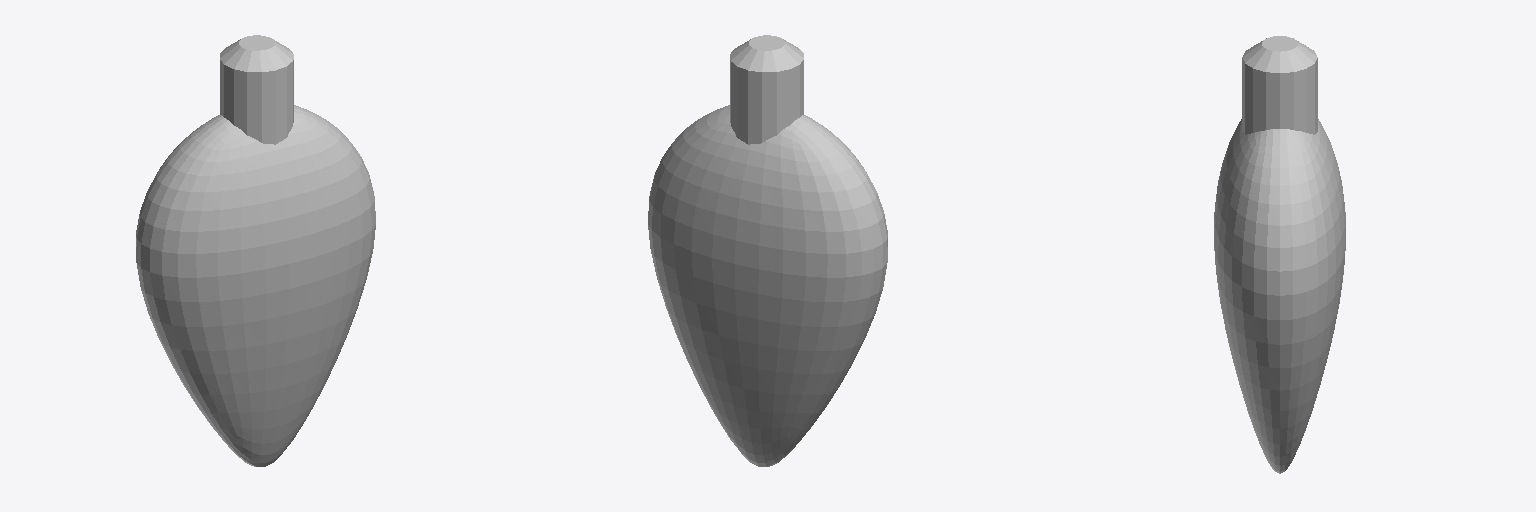
The model's file is Leaf1.obj.
3 renders of one model, left to right at view 1: azimuth 30°, elevation 25°; view 2: azimuth 150°, elevation 25°; view 3: azimuth 270°, elevation 25°, orthographic.
Visible parts, largest first — view 1: Cube; view 2: Cube; view 3: Cube.
Part boxes in pixels (left/top/right/bottom): Cube: left=136, top=35, right=375, bottom=466; Cube: left=648, top=35, right=887, bottom=466; Cube: left=1214, top=36, right=1345, bottom=473.
Size of the model in its own units: 1.76 by 3.11 by 0.88.